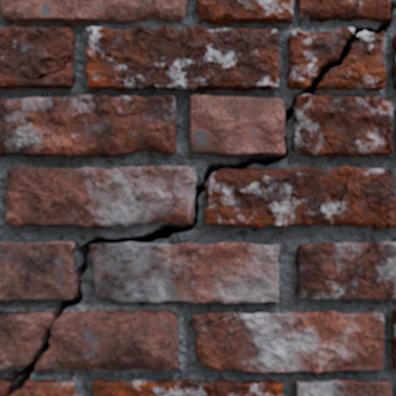brick: (86, 26, 279, 91), (205, 166, 395, 228), (193, 311, 383, 373), (6, 167, 195, 227), (90, 243, 278, 303), (0, 95, 176, 156), (294, 95, 392, 156), (191, 95, 284, 156), (296, 242, 395, 299), (0, 26, 74, 89), (1, 0, 187, 24), (0, 242, 75, 301), (93, 379, 282, 395), (198, 0, 293, 24), (297, 0, 389, 21), (295, 378, 391, 395), (392, 310, 395, 366), (392, 35, 395, 89)
broken_brick: (36, 308, 179, 372), (286, 26, 352, 89), (317, 32, 387, 91), (0, 310, 52, 371), (15, 378, 78, 395), (0, 377, 9, 395)
crack: (1, 0, 395, 395), (371, 116, 392, 153), (200, 312, 246, 325)
